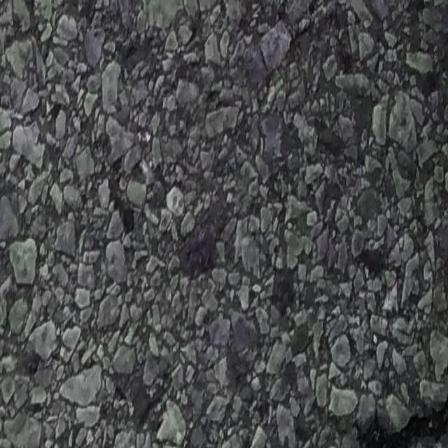crack: (353, 396, 448, 448)
